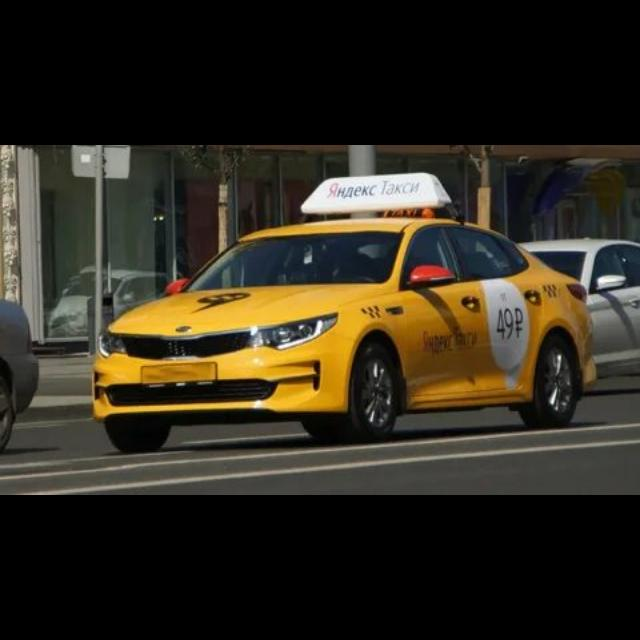taxi: (92, 173, 598, 454)
